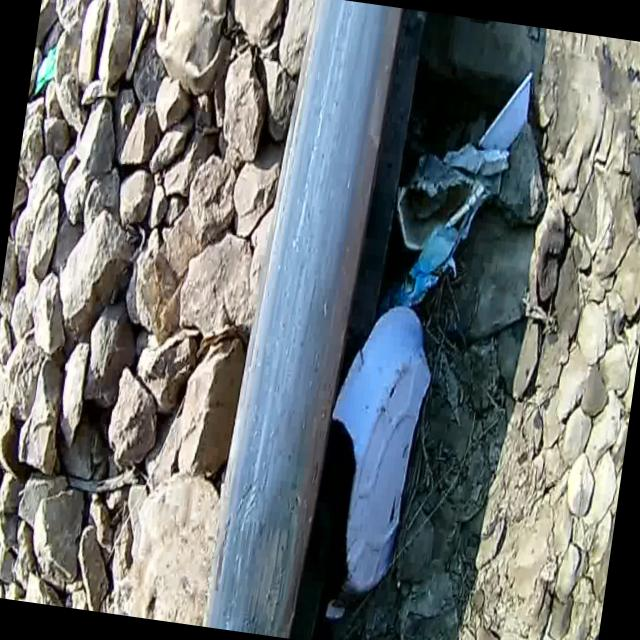Squats: (181, 0, 426, 640)
